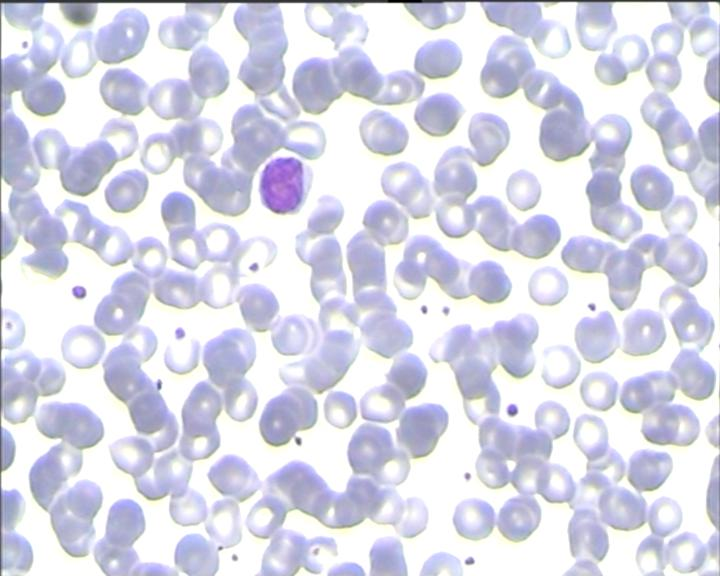lymp: (250, 155, 312, 217)
